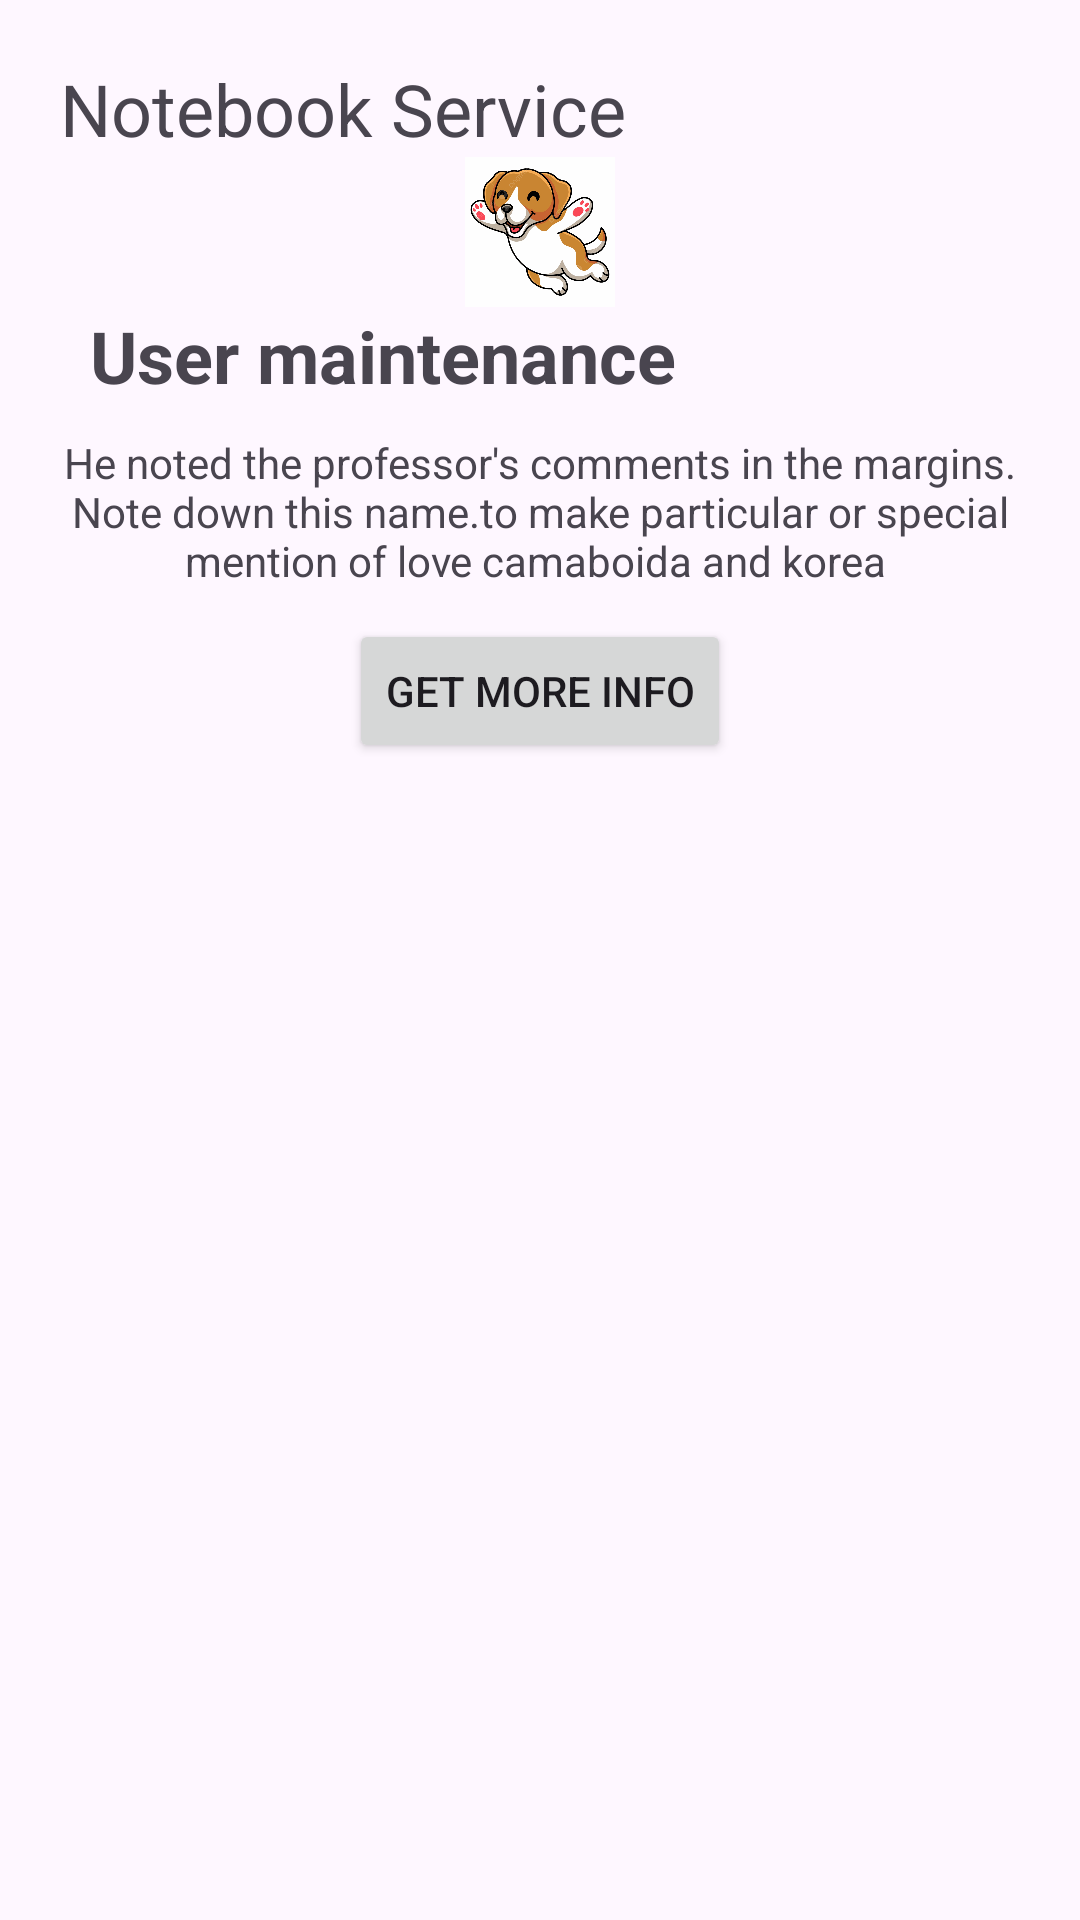

Where icons sit on this 1080px x 1920px app screen, as [x1,y1,x2,y2]:
dog: [470,168,610,296]
